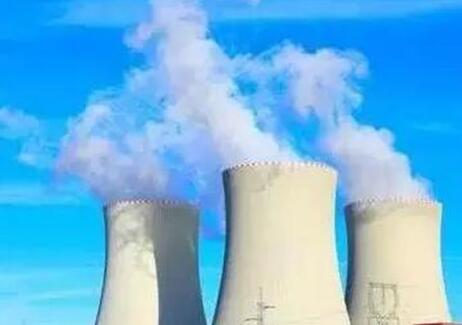dust: (175, 60, 333, 176), (303, 86, 450, 205), (55, 101, 204, 209)
